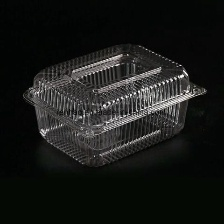plastic_box: (17, 33, 212, 172)
